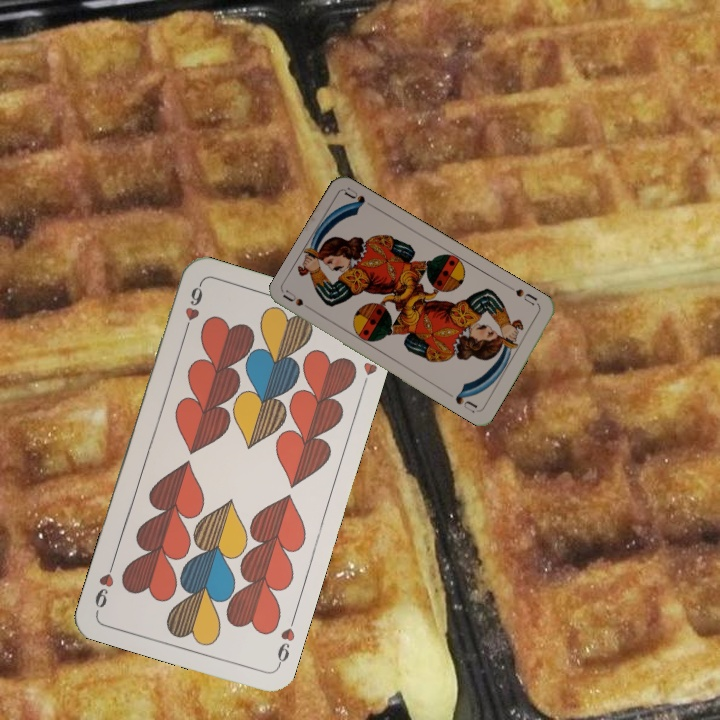H9: (179, 280, 205, 338), (273, 612, 298, 670)
SU: (280, 286, 318, 315), (505, 282, 540, 308)
